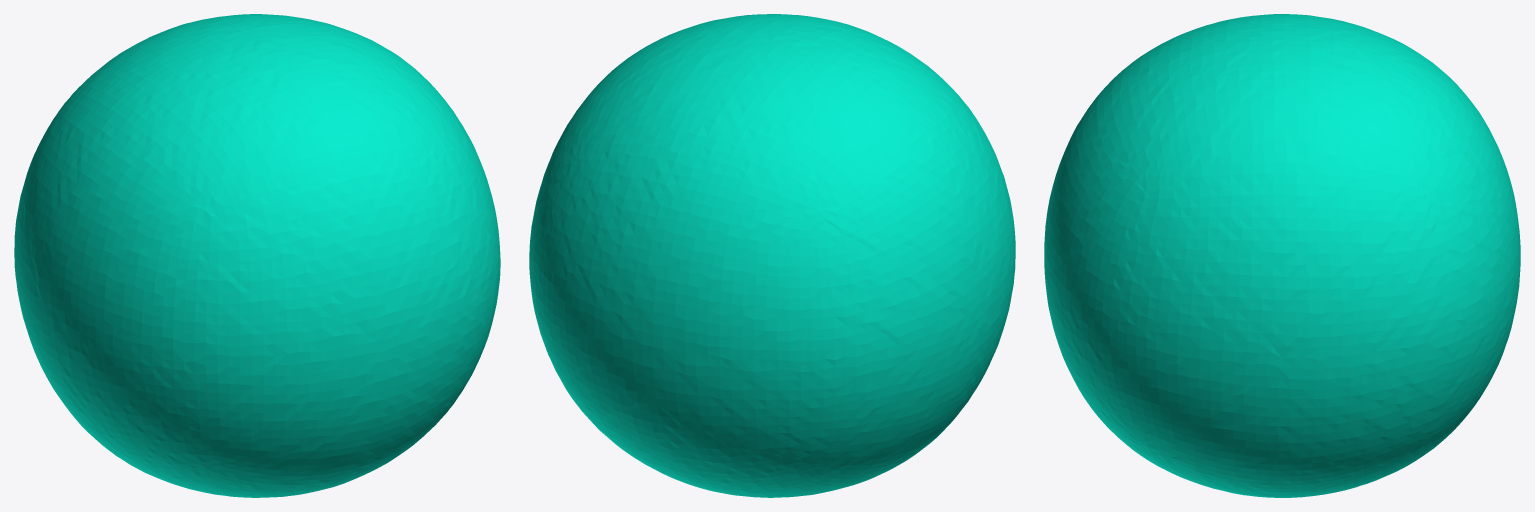
The model's file is Sea43.fbx.
The picture shows the model from 3 angles, left to right: view 1: azimuth 30°, elevation 25°; view 2: azimuth 150°, elevation 25°; view 3: azimuth 270°, elevation 25°; orthographic projection.
Parts seen in each view (by area): view 1: pCube1; view 2: pCube1; view 3: pCube1.
Part boxes in pixels (box(x1,y1,x2,y2)): pCube1: box(14, 14, 500, 497); pCube1: box(529, 14, 1015, 497); pCube1: box(1044, 14, 1520, 497).
Bounding box in the file's own units: 40.37 × 40.39 × 40.37.
